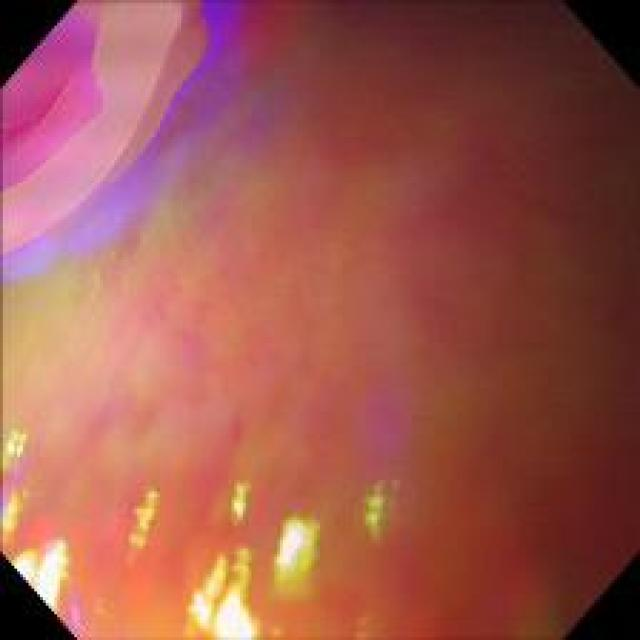color misalignment: (11, 1, 616, 616), (6, 9, 194, 264), (185, 550, 259, 638), (344, 380, 411, 470), (1, 428, 30, 542), (272, 518, 318, 586), (122, 484, 155, 572), (362, 476, 398, 539), (229, 476, 249, 536)
saturation: (14, 536, 64, 610)
